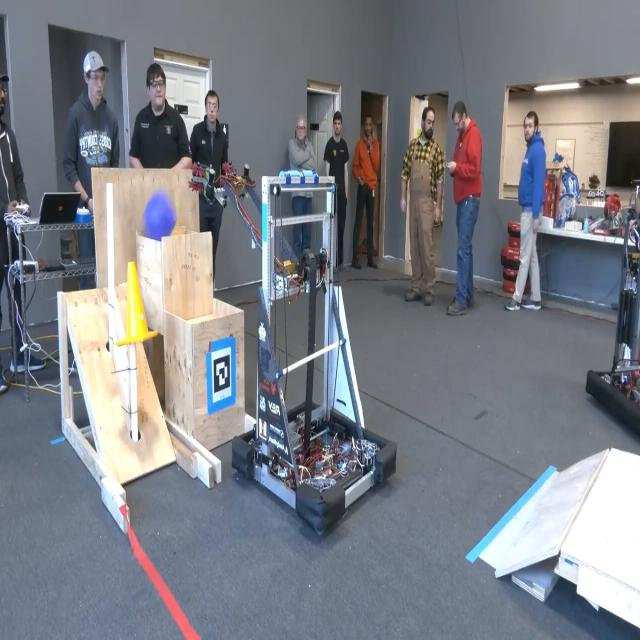frc_cone: (114, 247, 156, 353)
frc_cube: (147, 186, 178, 244)
